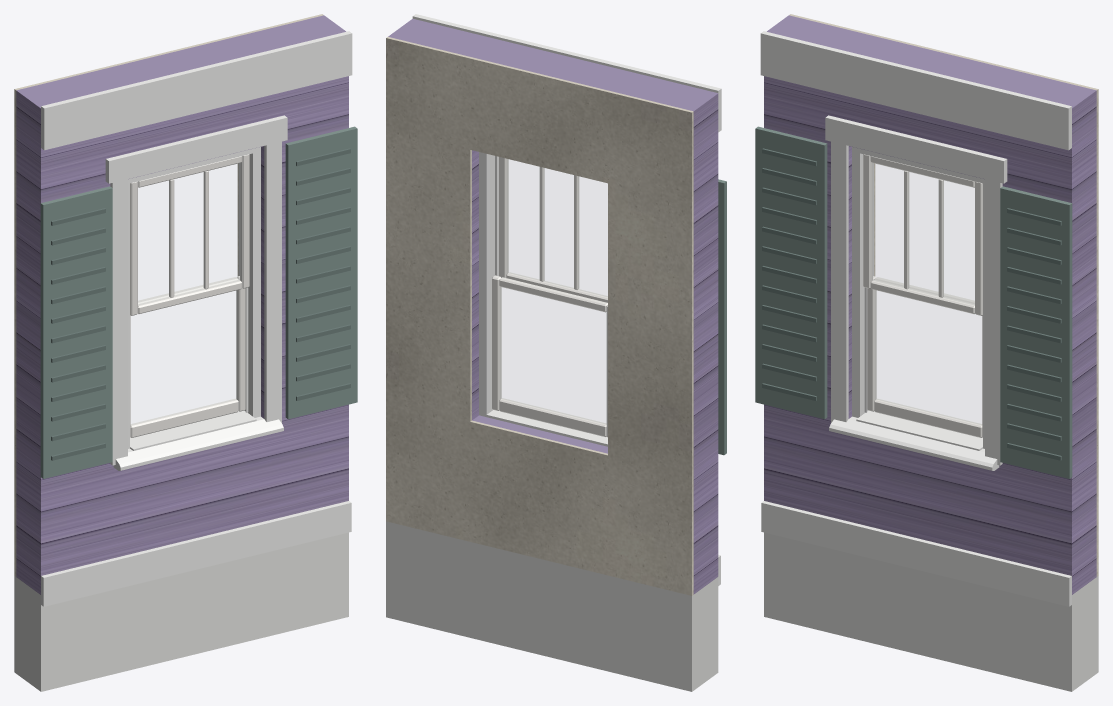
File: wall_d_window.glb
3 views of the same model, side by side, from view 1: azimuth 30°, elevation 25°; view 2: azimuth 150°, elevation 25°; view 3: azimuth 330°, elevation 25° (orthographic).
Parts seen in each view (by area): view 1: wall_d_window_siding_d, wall_d_window_trim, wall_d_window_shutter, wall_d_window_lattice, folha_glass, wall_d_window_glass, wall_d_window_shutter_dark, wall_d_window_sash, wall_d_window_frame, folha_sash, wall_d_window_plaster; view 2: wall_d_window_plaster, wall_d_window_lattice, wall_d_window_siding_d, folha_glass, wall_d_window_glass, folha_sash, wall_d_window_frame, wall_d_window_sash, wall_d_window_trim, wall_d_window_shutter; view 3: wall_d_window_siding_d, wall_d_window_trim, wall_d_window_shutter, wall_d_window_lattice, folha_glass, wall_d_window_glass, wall_d_window_shutter_dark, wall_d_window_sash, wall_d_window_frame, folha_sash, wall_d_window_plaster.
Part boxes in pixels (<box>): wall_d_window_siding_d: <box>16,15,348,594</box>; wall_d_window_trim: <box>41,31,352,606</box>; wall_d_window_shutter: <box>40,126,357,478</box>; wall_d_window_lattice: <box>14,532,348,691</box>; folha_glass: <box>131,291,236,424</box>; wall_d_window_glass: <box>138,163,240,304</box>; wall_d_window_shutter_dark: <box>51,148,350,460</box>; wall_d_window_sash: <box>130,154,249,315</box>; wall_d_window_frame: <box>128,147,260,448</box>; folha_sash: <box>130,276,245,437</box>; wall_d_window_plaster: <box>14,14,323,576</box>; wall_d_window_plaster: <box>386,37,693,595</box>; wall_d_window_lattice: <box>386,521,718,691</box>; wall_d_window_siding_d: <box>388,18,718,594</box>; folha_glass: <box>501,287,605,423</box>; wall_d_window_glass: <box>508,160,607,296</box>; folha_sash: <box>492,275,607,437</box>; wall_d_window_frame: <box>479,152,498,416</box>; wall_d_window_sash: <box>499,157,607,302</box>; wall_d_window_trim: <box>412,14,721,585</box>; wall_d_window_shutter: <box>718,179,726,455</box>; wall_d_window_siding_d: <box>764,15,1096,594</box>; wall_d_window_trim: <box>760,31,1071,606</box>; wall_d_window_shutter: <box>755,126,1072,478</box>; wall_d_window_lattice: <box>764,532,1098,691</box>; folha_glass: <box>876,291,981,424</box>; wall_d_window_glass: <box>872,163,974,304</box>; wall_d_window_shutter_dark: <box>762,148,1061,460</box>; wall_d_window_sash: <box>863,154,982,315</box>; wall_d_window_frame: <box>852,147,984,448</box>; folha_sash: <box>867,276,982,437</box>; wall_d_window_plaster: <box>789,14,1098,576</box>.
Bounding box in the file's own units: 2.04 × 3.63 × 0.38.
Materials: 9 (2 with a texture image).
